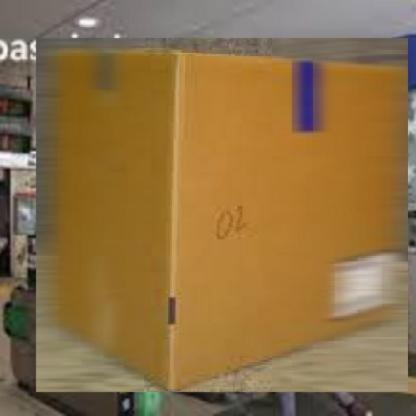box: (31, 34, 414, 398)
